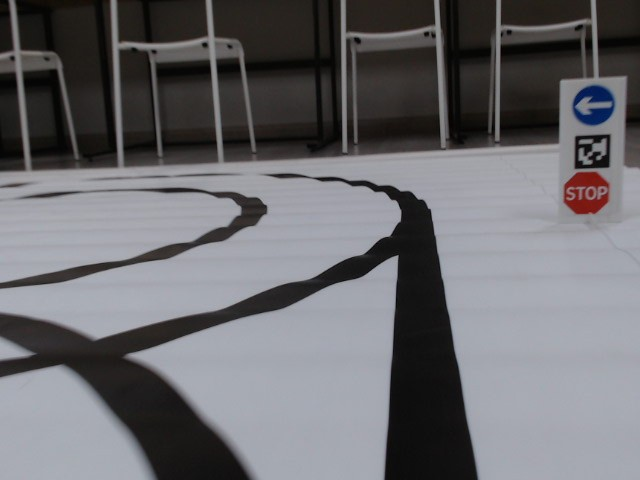Stop: (563, 170, 610, 214)
